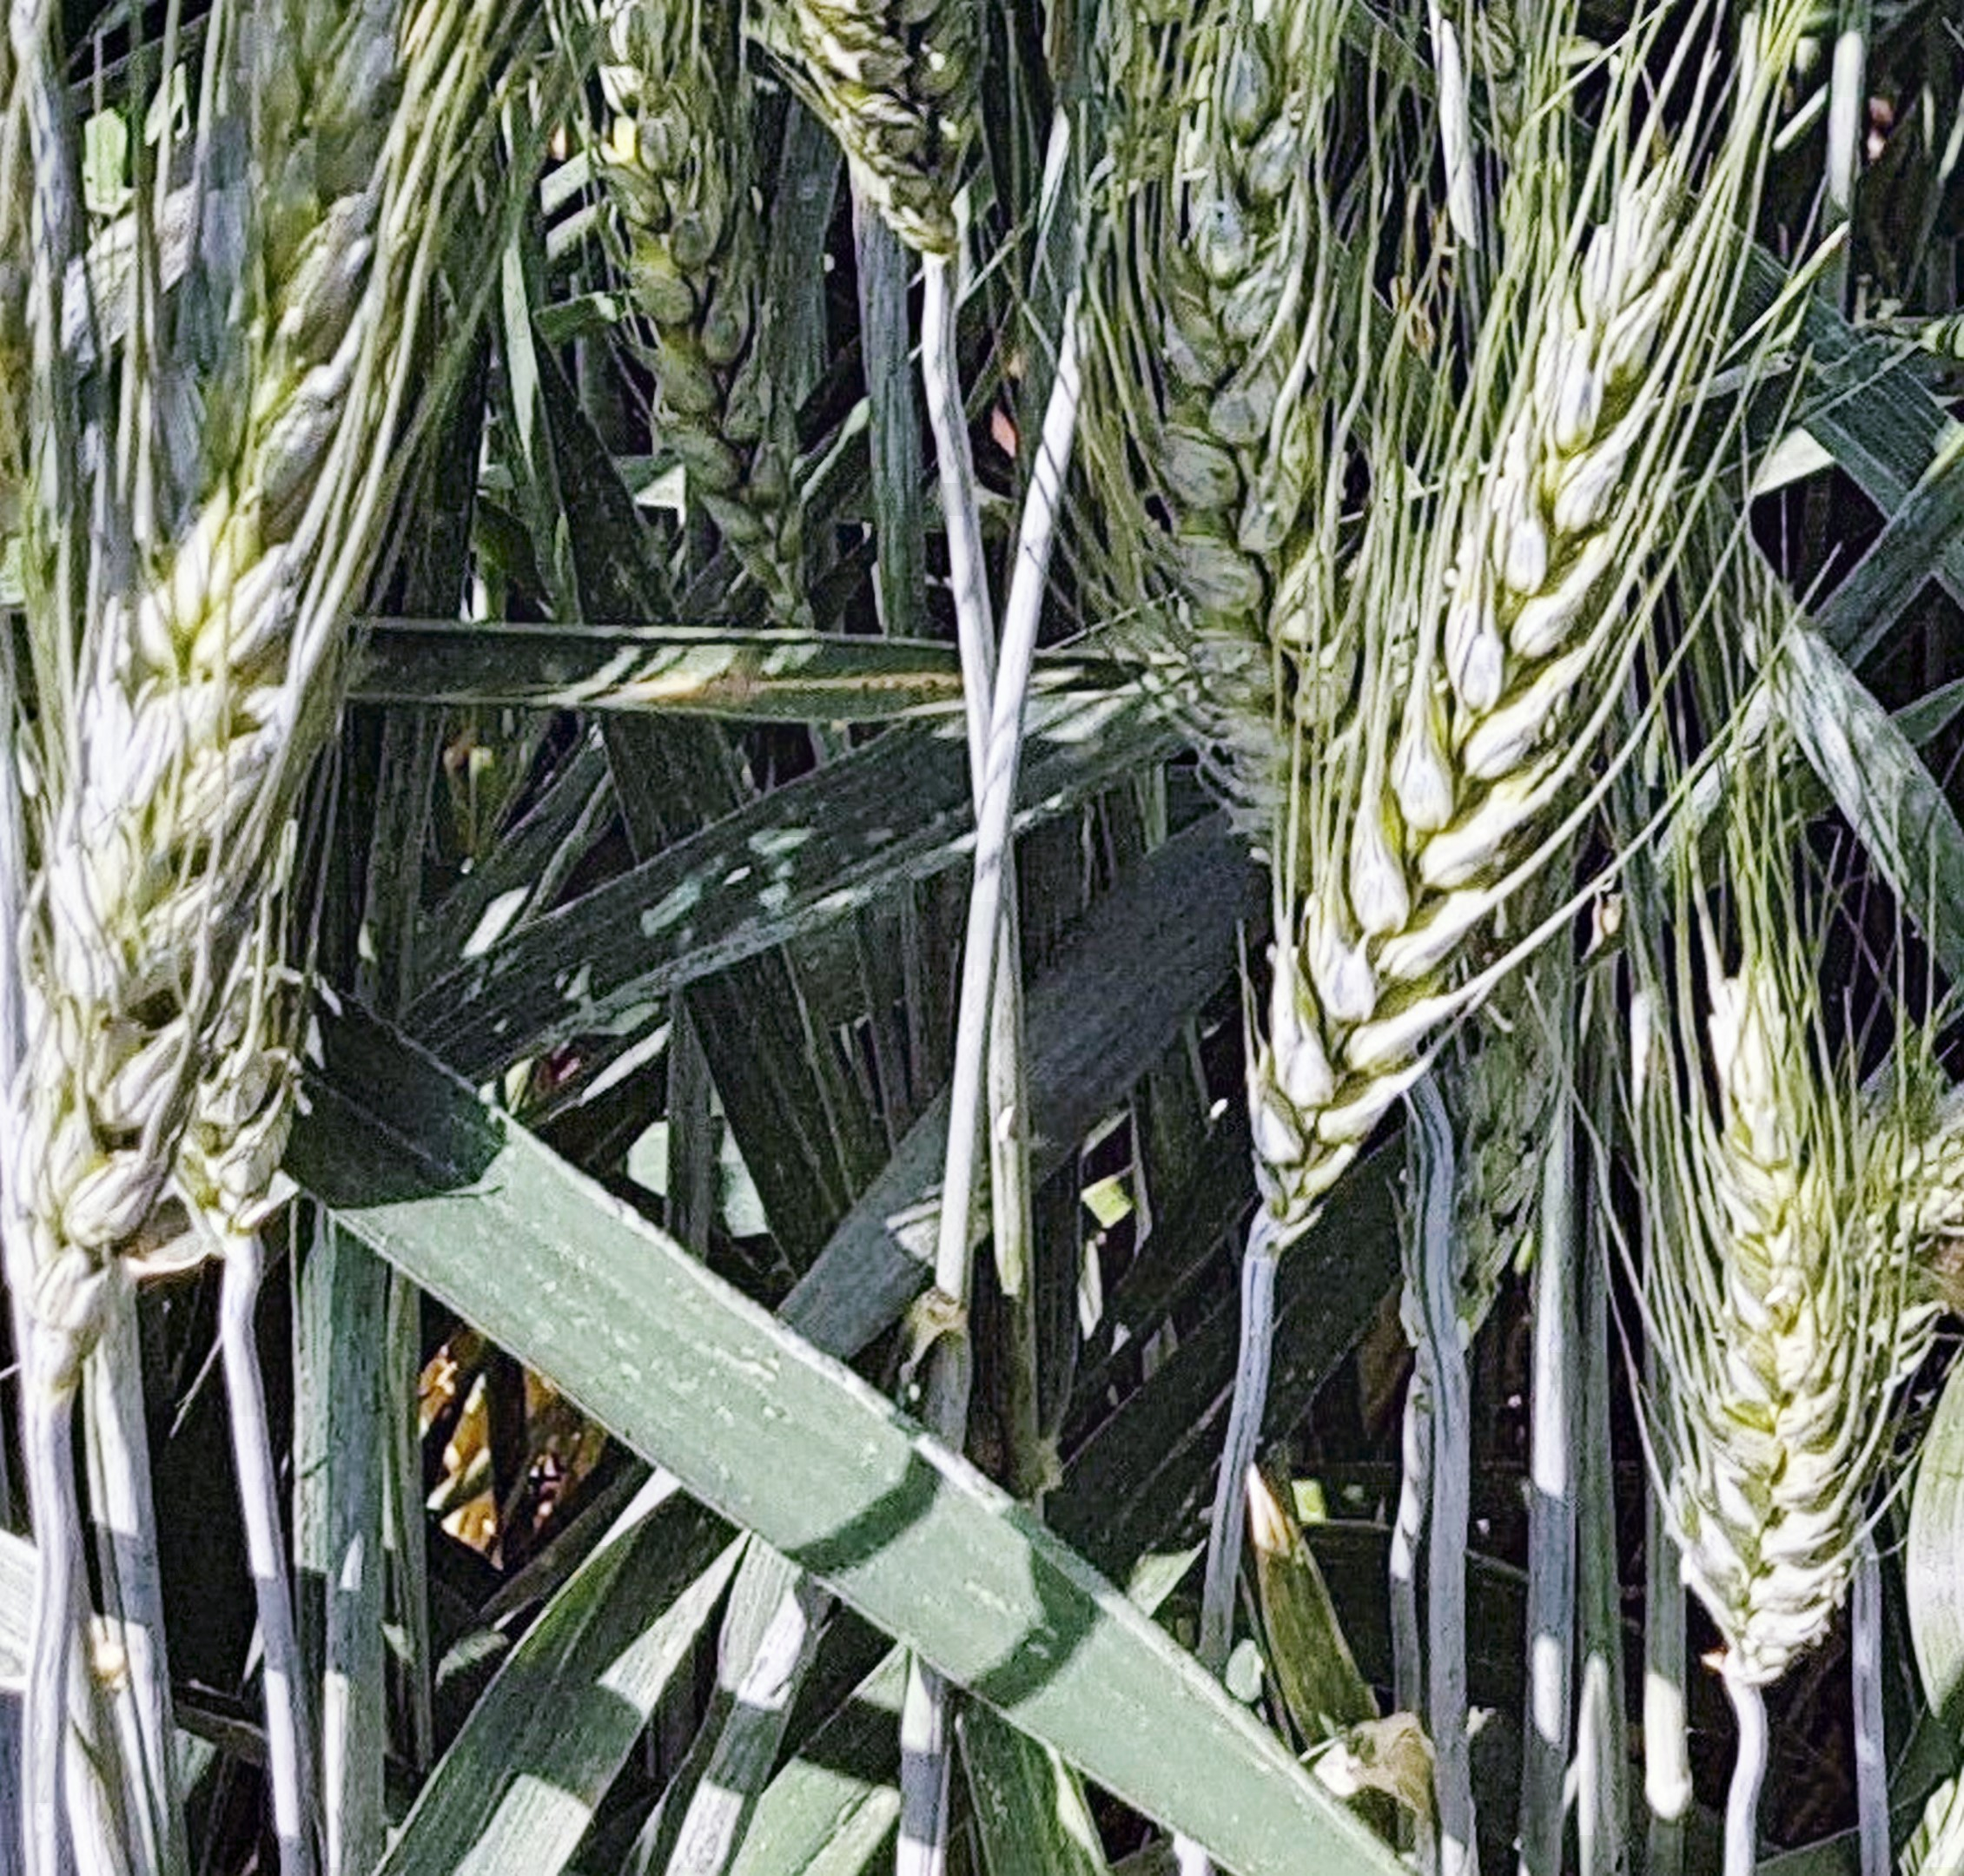Healthy Wheat: (1242, 210, 1736, 1199), (580, 32, 850, 633)
